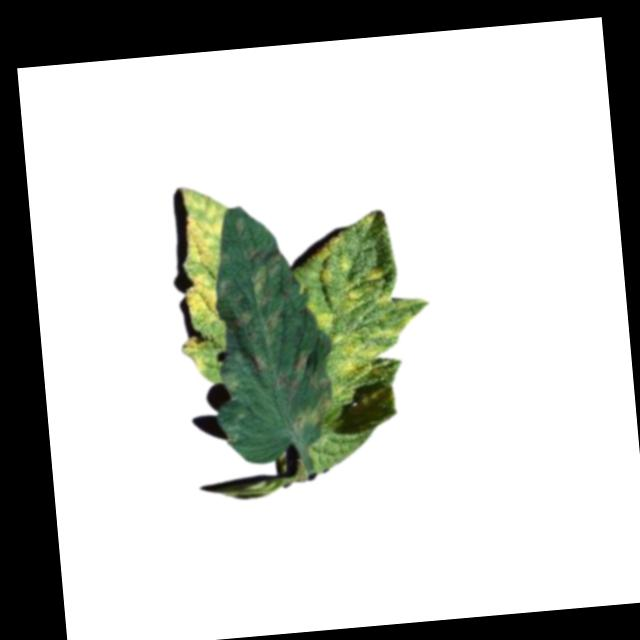Leaf_Mold: (285, 203, 437, 404), (227, 208, 334, 437), (167, 183, 240, 375)
